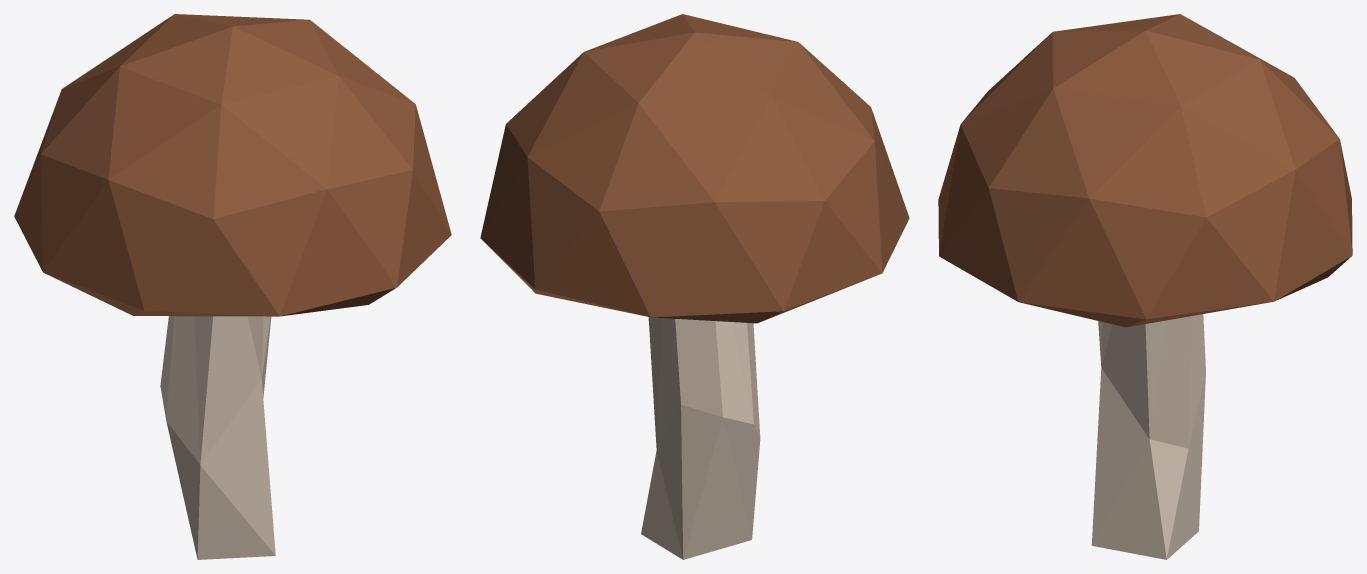
The model's file is mushroom-03.glb.
3 renders of one model, left to right at view 1: azimuth 30°, elevation 25°; view 2: azimuth 150°, elevation 25°; view 3: azimuth 270°, elevation 25°, orthographic.
Parts seen in each view (by area): view 1: Mushroom1_2.001; view 2: Mushroom1_2.001; view 3: Mushroom1_2.001.
Part boxes in pixels (left/top/right/bottom): Mushroom1_2.001: left=14, top=14, right=451, bottom=559; Mushroom1_2.001: left=480, top=14, right=909, bottom=559; Mushroom1_2.001: left=938, top=14, right=1352, bottom=559.
Bounding box in the file's own units: 0.5647 × 0.728 × 0.5379.
